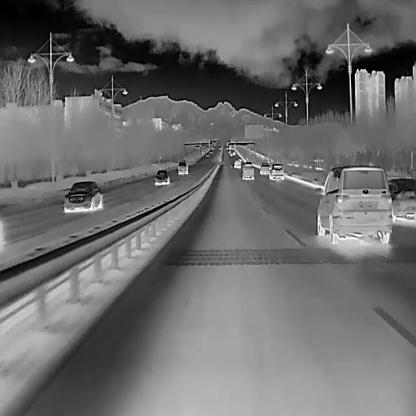car: (313, 164, 392, 244), (62, 180, 102, 213), (388, 176, 415, 223), (152, 168, 170, 186), (268, 164, 284, 180), (259, 162, 270, 174), (244, 159, 253, 167), (233, 159, 240, 168), (204, 152, 209, 157), (209, 148, 212, 154), (229, 153, 233, 157), (228, 150, 232, 154), (237, 157, 241, 160), (232, 151, 235, 155), (218, 145, 221, 148), (212, 146, 214, 148)
truck: (241, 165, 254, 179), (177, 158, 188, 174)
